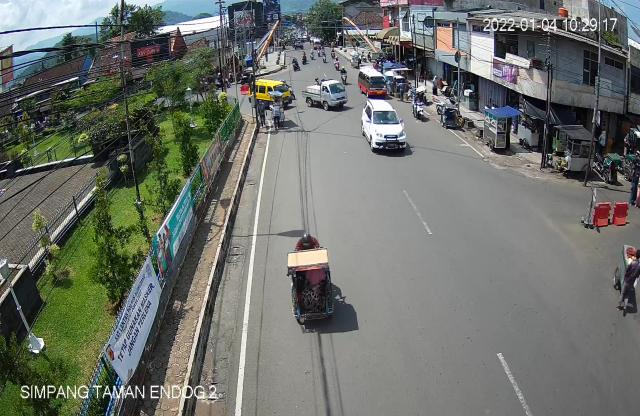Becak: (284, 230, 347, 333)
Mobil: (358, 98, 409, 158), (302, 78, 353, 119)
Motor: (409, 92, 430, 122)
